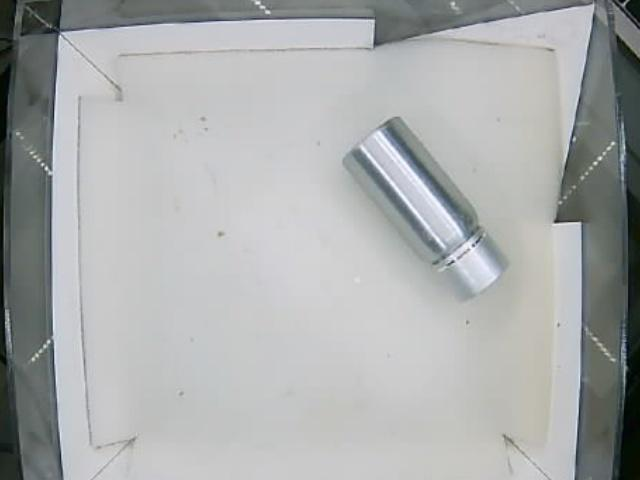Bottle: (343, 115, 509, 305)
